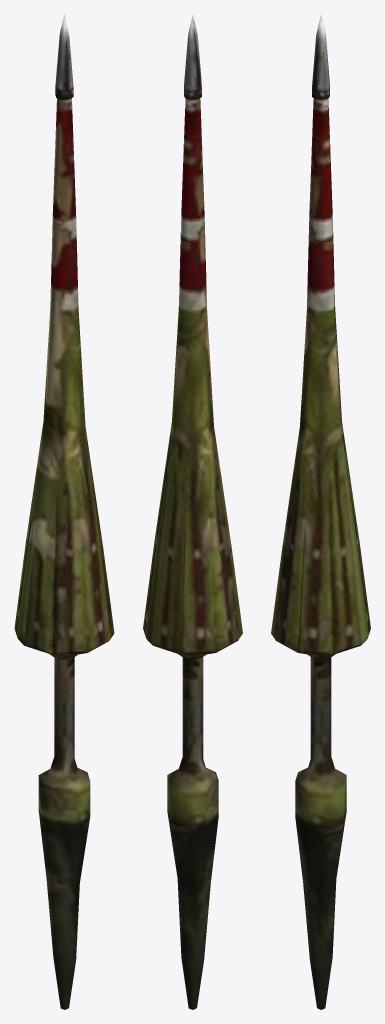
Rendered from weapon-proud-lance.glb.
3 views of the same model, side by side, from view 1: azimuth 30°, elevation 25°; view 2: azimuth 210°, elevation 25°; view 3: azimuth 330°, elevation 25° (orthographic).
Parts seen in each view (by area): view 1: spearE_MDL_q; view 2: spearE_MDL_q; view 3: spearE_MDL_q.
Boxes of the visible parts, x1,y1,x2,y2 form: spearE_MDL_q: (14, 14, 114, 1009); spearE_MDL_q: (143, 15, 242, 1009); spearE_MDL_q: (271, 15, 370, 1009).
Bounding box in the file's own units: 0.292 × 3.22 × 0.292.
1 material, 1 textured.
